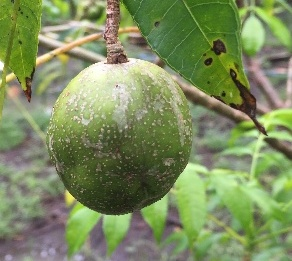Coc: (47, 58, 194, 213)
